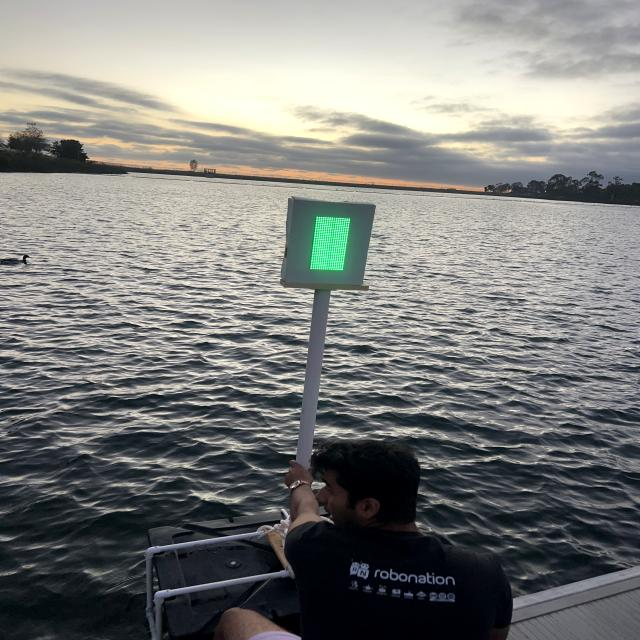led: (302, 198, 358, 288)
